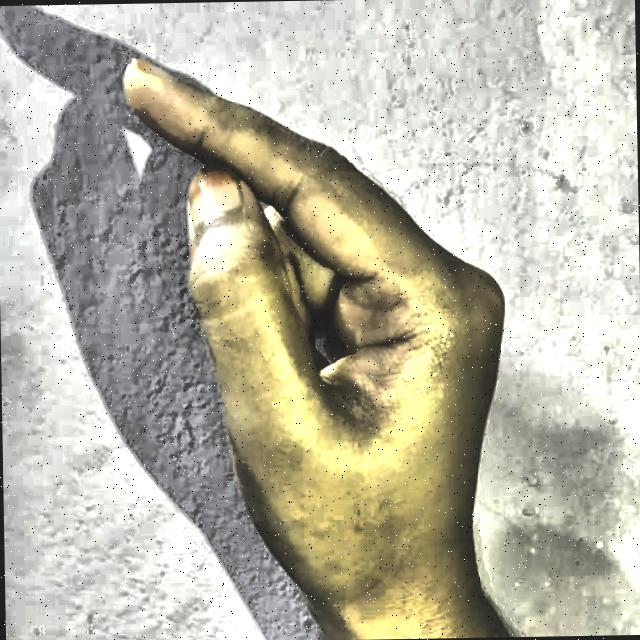Tha: (95, 24, 561, 640)
